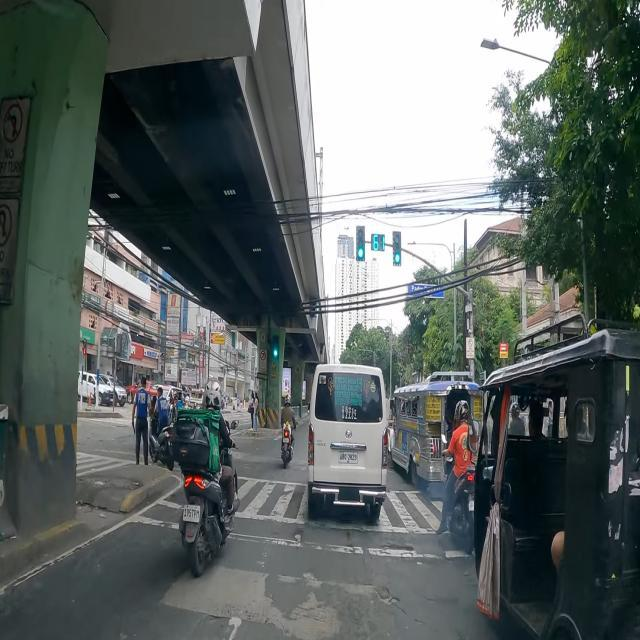car: (307, 364, 389, 520), (78, 370, 114, 407)
jeepney: (388, 372, 484, 500), (186, 388, 204, 409)
motorcycle: (174, 378, 237, 580), (438, 401, 476, 554), (149, 412, 174, 470), (281, 396, 297, 468), (169, 392, 178, 424)
tricycle: (473, 323, 640, 640), (158, 384, 184, 412)
